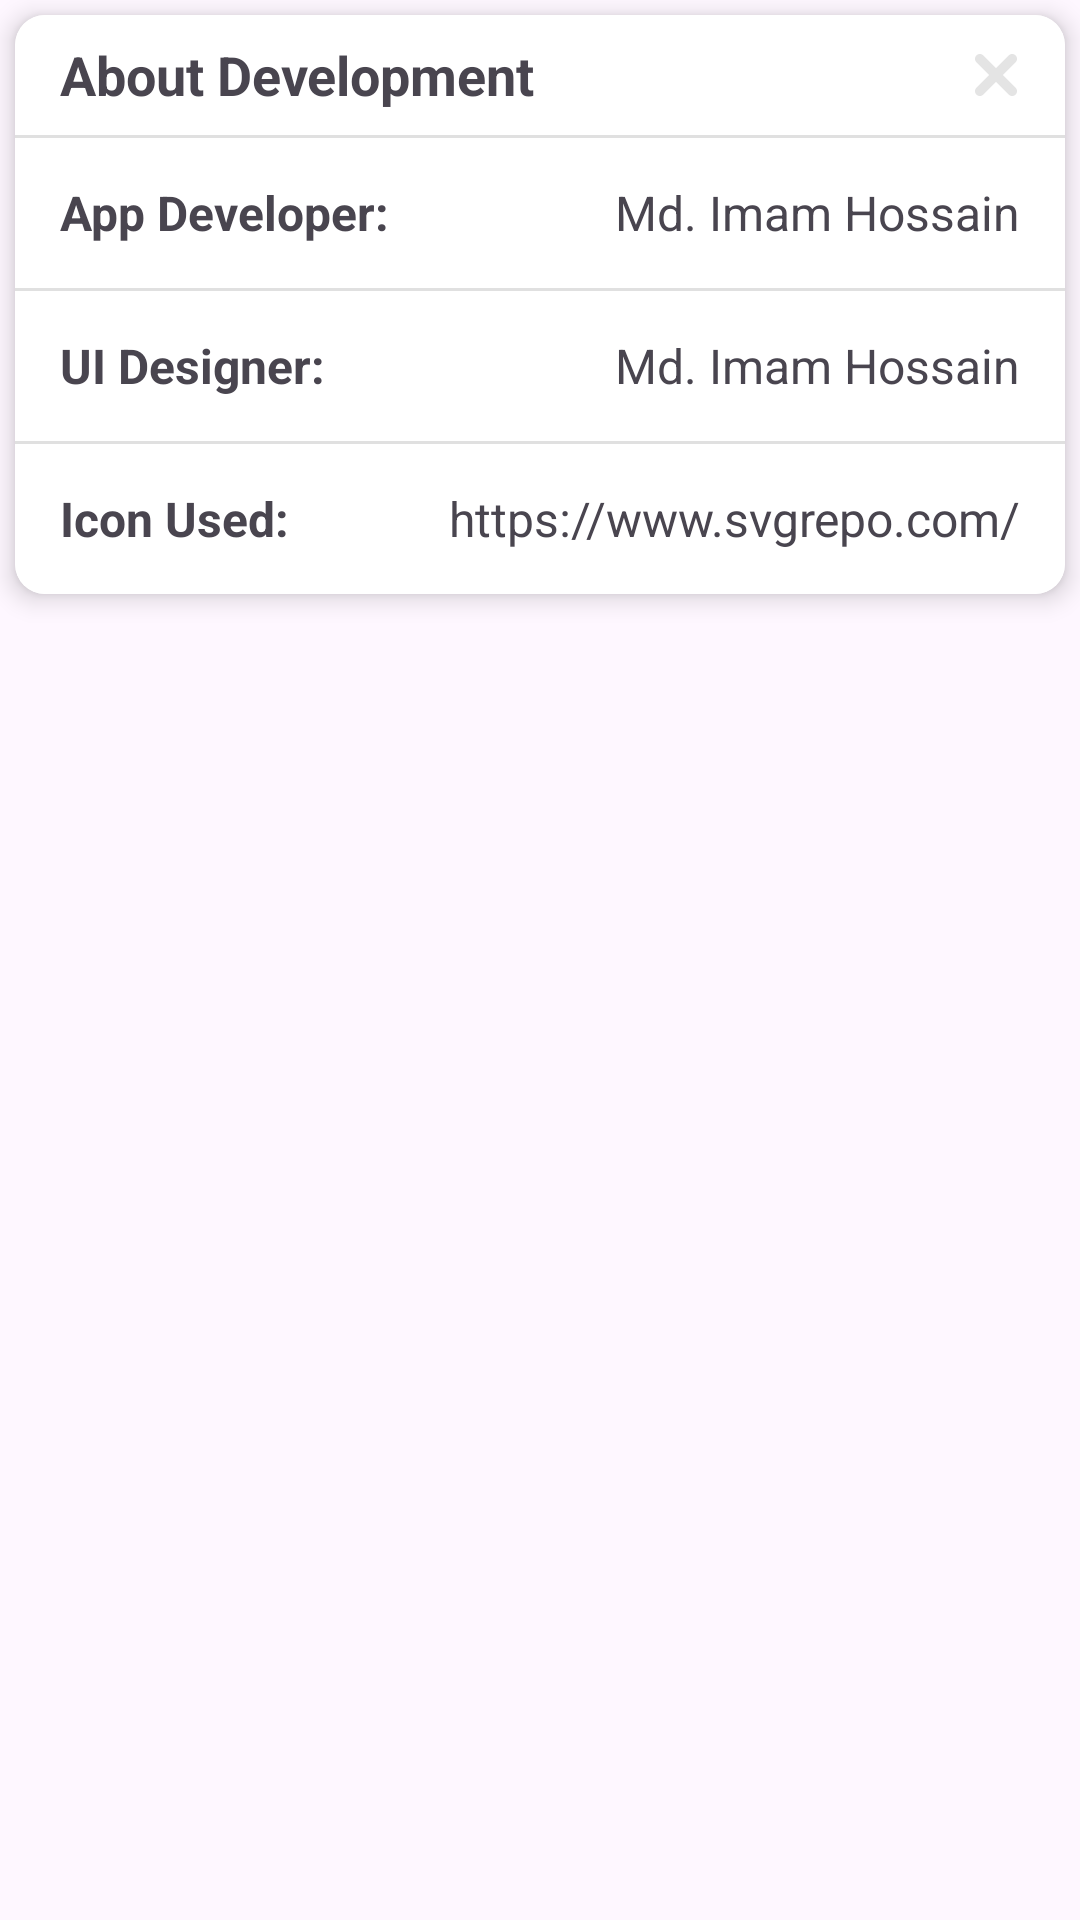

Where icons sit on this 1080×1920 app screen, as (x1, y1, x2, y2):
cross: (975, 54, 1017, 96)
